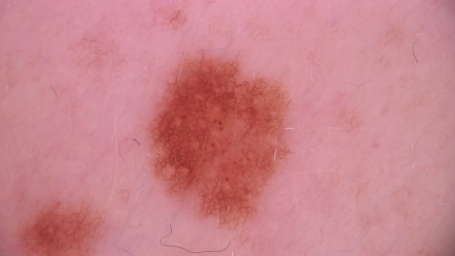melanoma: (155, 54, 292, 225), (22, 201, 99, 256)
